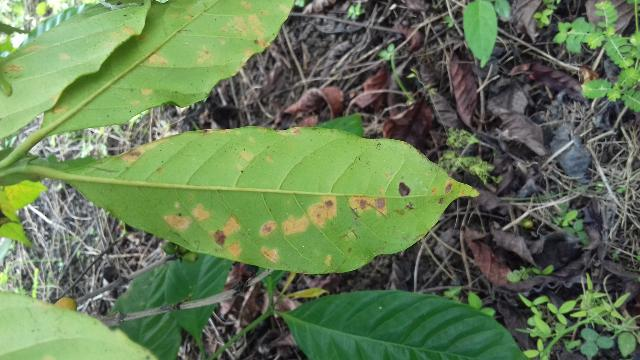rust_level_2: (28, 130, 481, 273)
